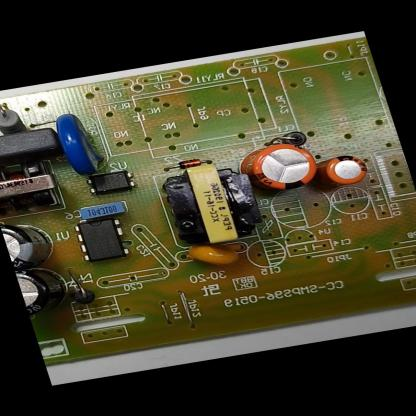Cap1: (232, 133, 332, 200)
Cap2: (312, 147, 382, 193)
Cap3: (0, 212, 74, 272)
Cap4: (14, 257, 86, 322)
MOSFET: (64, 209, 140, 268)
Mov: (47, 106, 122, 185)
Resistor: (0, 100, 30, 136)
Transformer: (137, 143, 284, 261), (0, 142, 84, 227)
